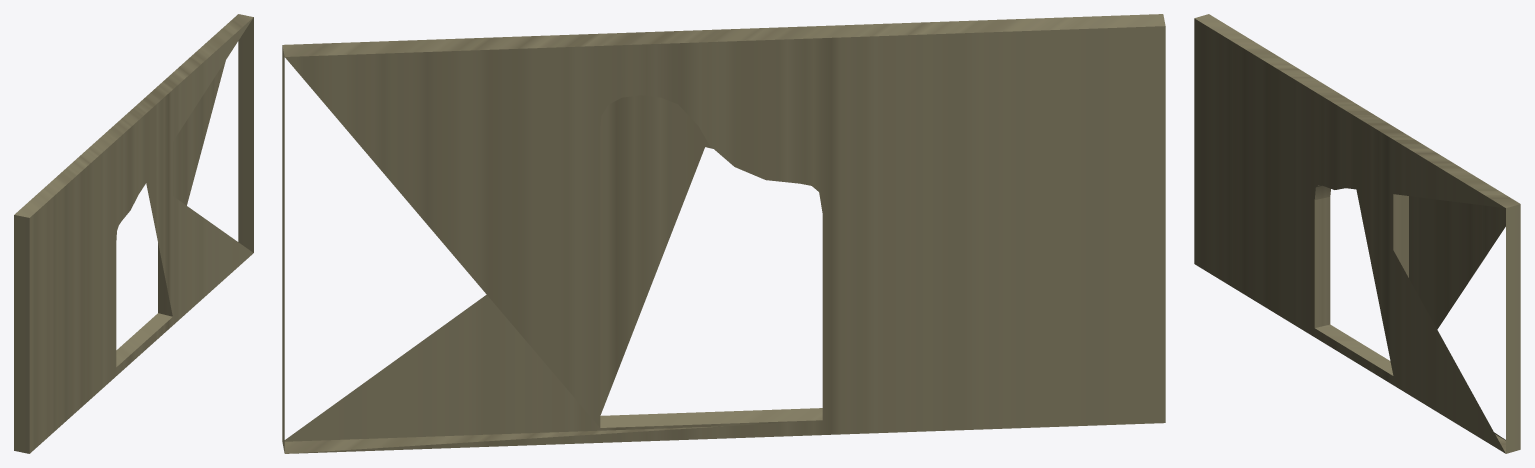
The model's file is puerta.obj.
3 renders of one model, left to right at view 1: azimuth 30°, elevation 25°; view 2: azimuth 150°, elevation 25°; view 3: azimuth 270°, elevation 25°, orthographic. The views are drawn at different scales.
Parts seen in each view (by area): view 1: pCube39; view 2: pCube39; view 3: pCube39.
Part boxes in pixels (x1,y1,x2,y2): pCube39: [14, 14, 253, 453]; pCube39: [282, 14, 1165, 453]; pCube39: [1194, 14, 1520, 453].
Size of the model in its own units: 25.8 by 15.21 by 18.32.
Materials: 1 (1 with a texture image).
